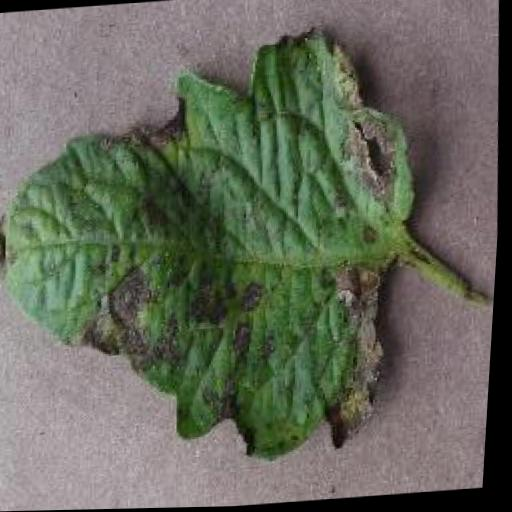Early Blight: (0, 25, 444, 481)
